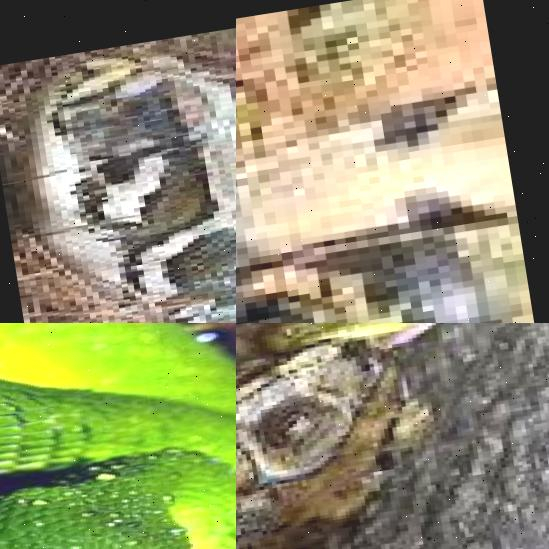2: (236, 323, 549, 424)
4: (0, 323, 236, 549)
5: (236, 0, 549, 323)
snake: (0, 0, 236, 323)
